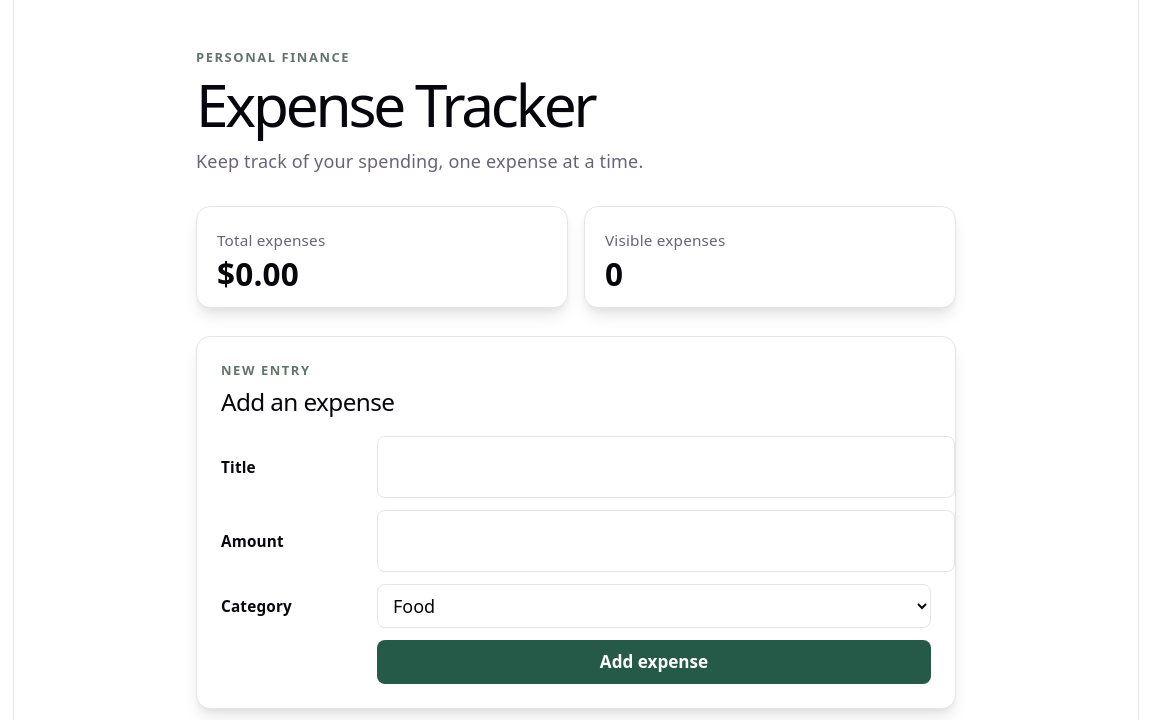
it: adds an expense and updates its row, count, and formatted total
This screenshot has width=1152, height=720.
Type "Coffee" into the field labelled "Title" at (666, 467), box [377,436,955,498]
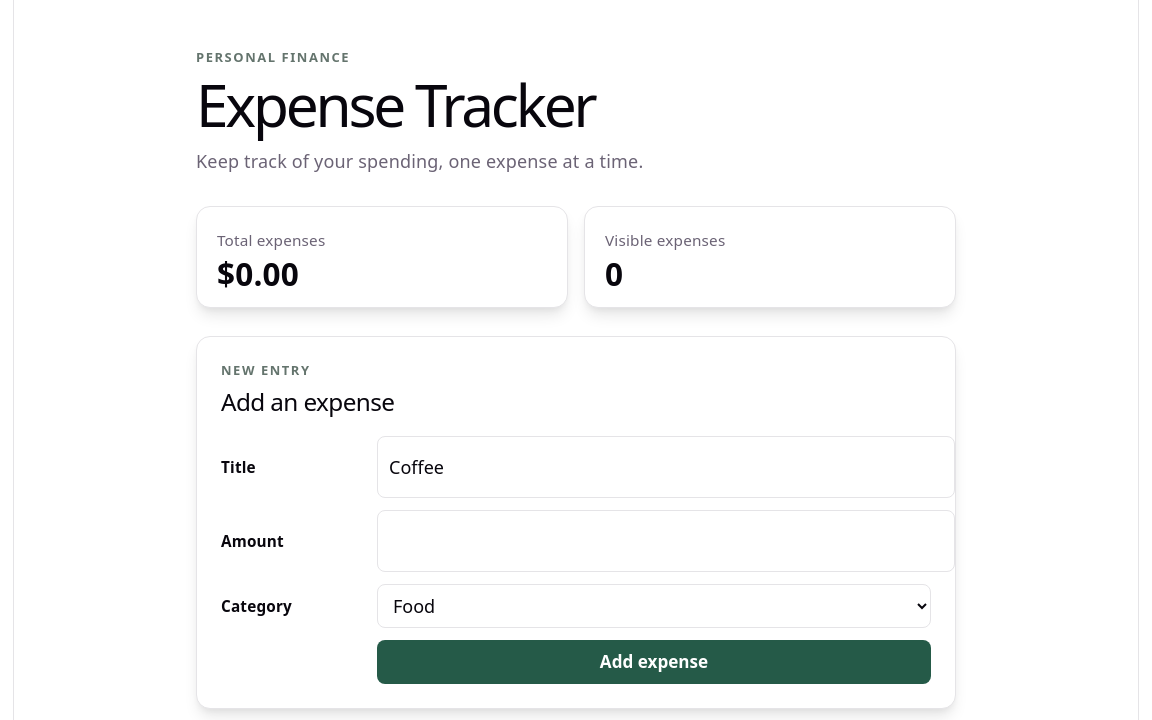
Type "4.5" into the field labelled "Amount" at (666, 541), box [377,510,955,572]
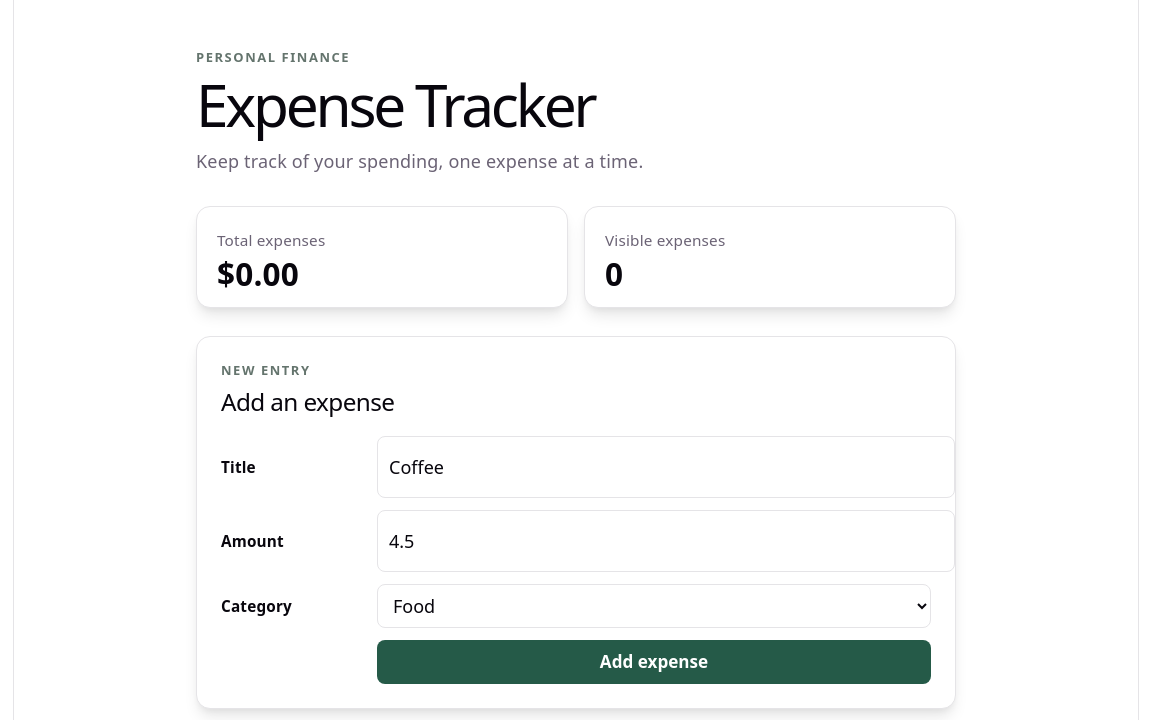
Select "Food" in the dropdown labelled "Category" at (654, 606), box [377,584,931,628]
Submit the form "Add expense", box [221,436,931,684]
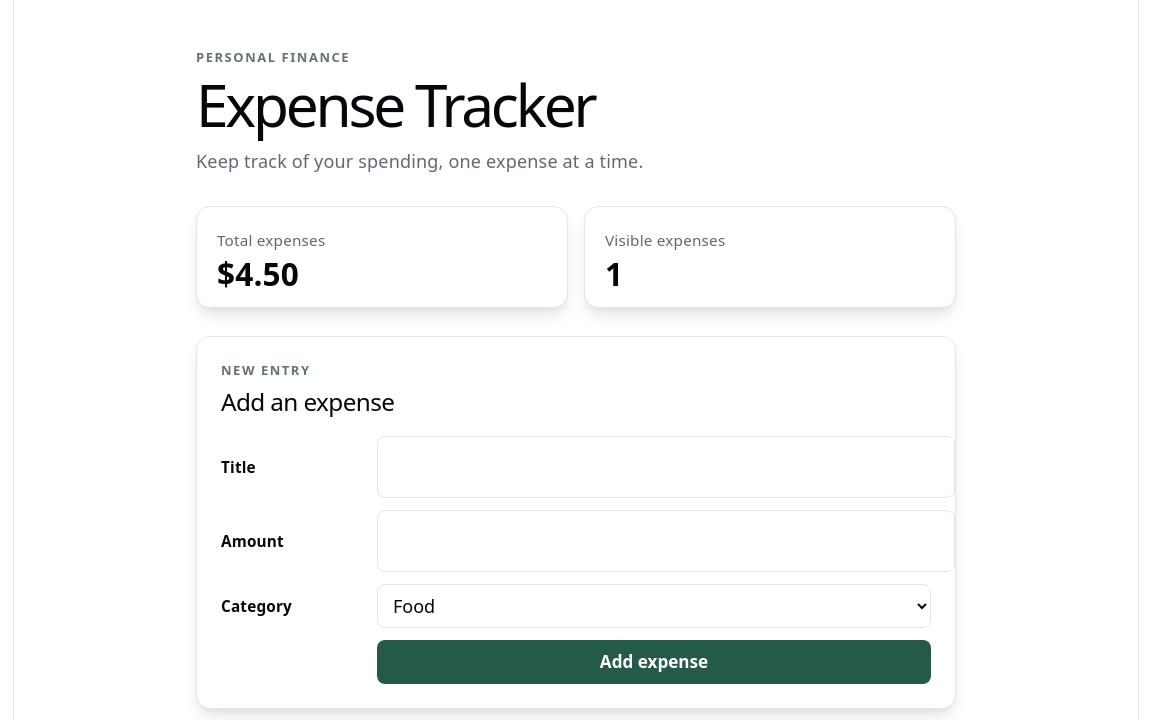
Result: the text with test id "count" reads "1" at [605,252,623,295]
Result: the text with test id "total" reads "$4.50" at [217,252,299,295]
